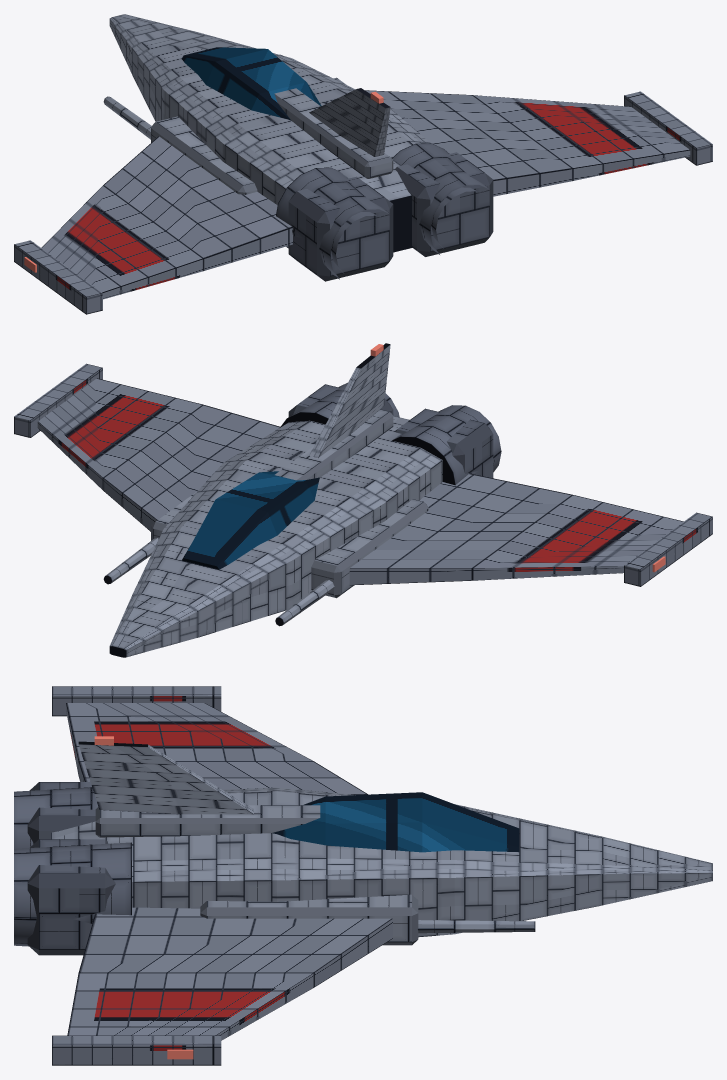
The model's file is hero_ship.glb.
The picture shows the model from 3 angles, top to bottom: view 1: azimuth 30°, elevation 25°; view 2: azimuth 150°, elevation 25°; view 3: azimuth 270°, elevation 25°; orthographic projection. The views are drawn at different scales.
Visible parts, largest first — view 1: node-1, node-0, node-3, node-2; view 2: node-1, node-0, node-2, node-3; view 3: node-0, node-1, node-3, node-2.
Boxes of the visible parts, x1,y1,x2,y2 form: node-1: (14,90,712,314); node-0: (103,14,430,252); node-3: (276,143,493,281); node-2: (181,47,321,120); node-1: (14,363,712,586); node-0: (103,343,442,657); node-2: (181,471,319,569); node-3: (280,382,501,485); node-0: (51,741,712,945); node-1: (52,686,392,1065); node-3: (14,782,131,955); node-2: (272,792,519,852).
Bounding box in the file's own units: 5.29 × 1.24 × 4.33.
Materials: 6 (5 with a texture image).
